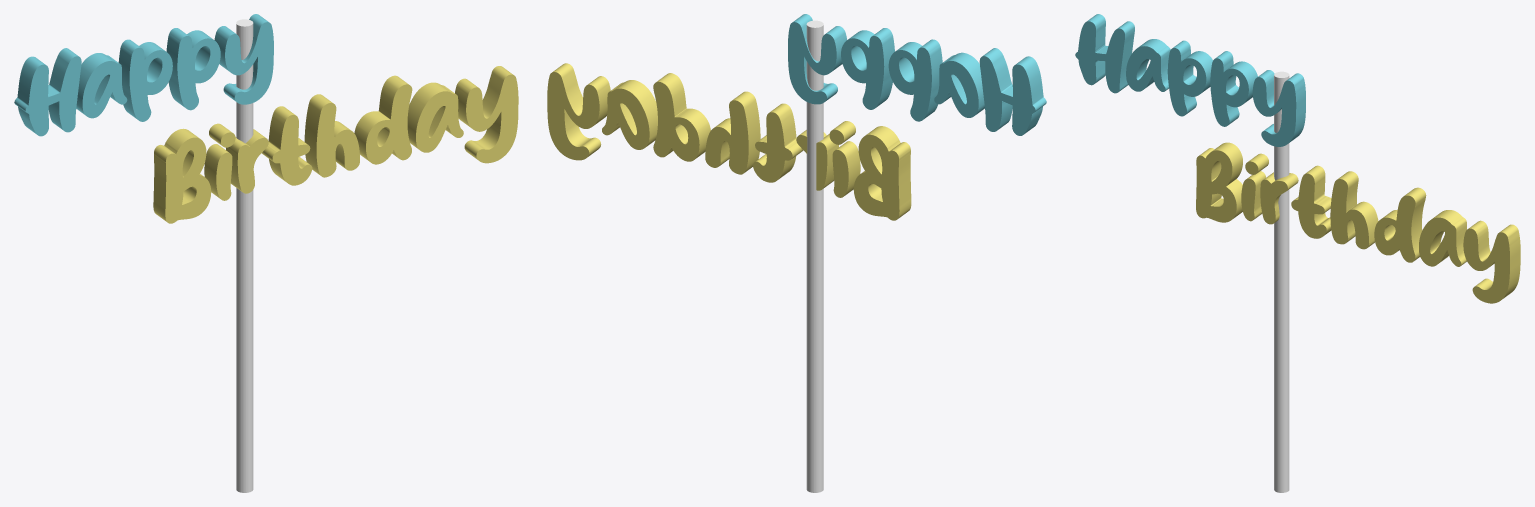
The model's file is birthday_stick3.glb.
3 renders of one model, left to right at view 1: azimuth 30°, elevation 25°; view 2: azimuth 150°, elevation 25°; view 3: azimuth 330°, elevation 25°, orthographic. The views are drawn at different scales.
Parts seen in each view (by area): view 1: Text.001, Text, Cylinder; view 2: Text.001, Text, Cylinder; view 3: Text.001, Text, Cylinder.
Boxes of the visible parts, x1=… form: Text.001: x1=153, y1=66, x2=518, y2=223; Text: x1=14, y1=14, x2=273, y2=136; Cylinder: x1=236, y1=19, x2=253, y2=492; Text.001: x1=547, y1=63, x2=911, y2=220; Text: x1=788, y1=14, x2=1046, y2=135; Cylinder: x1=806, y1=20, x2=823, y2=492; Text.001: x1=1196, y1=142, x2=1520, y2=303; Text: x1=1075, y1=14, x2=1305, y2=146; Cylinder: x1=1274, y1=71, x2=1289, y2=492.
Size of the model in its own units: 1.41 by 1.32 by 0.0657.
